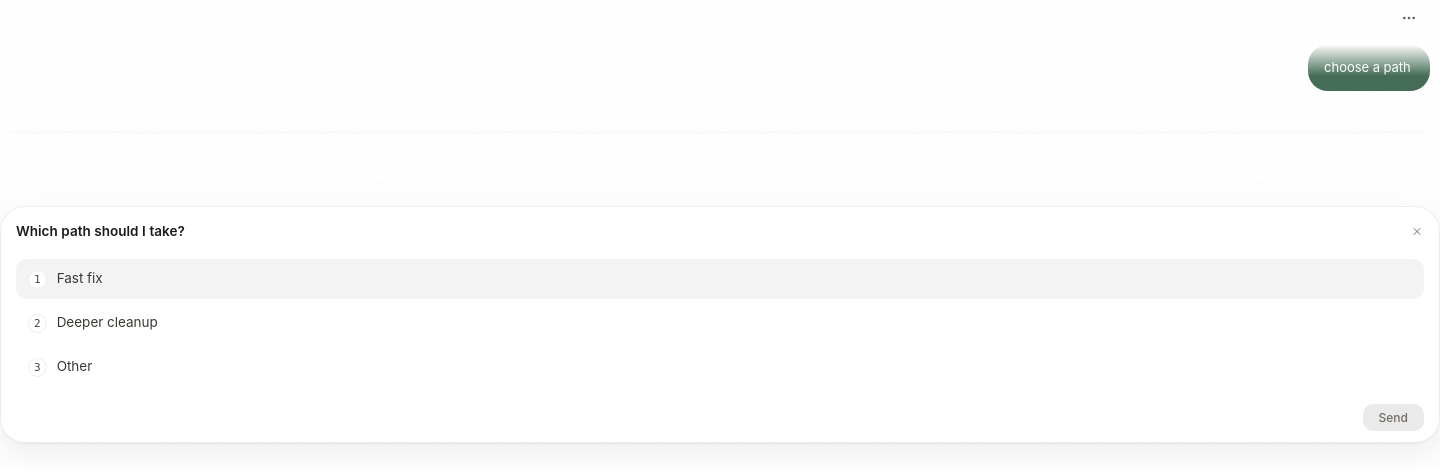
Scenario: SessionConversation — cards › renders AskUserQuestion in the question dock for claude payloads
Expected: the element named "Question from agent" is shown, x1=0 y1=206 x2=1439 y2=443
Expected: the text "Which path should I take?" is shown, x1=16 y1=223 x2=185 y2=239
Step 1. Click the option "1 Fast fix" → coordinates (80, 278), box x1=16 y1=259 x2=1424 y2=299
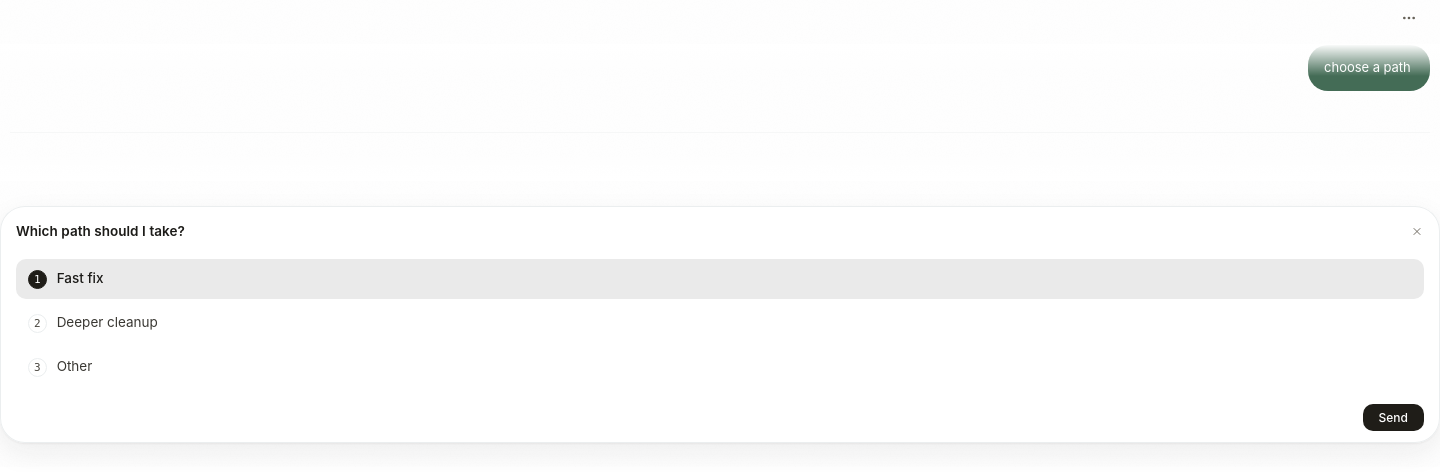
Step 2. Click the button with aria-label "Submit answer" → coordinates (1393, 417), box x1=1363 y1=404 x2=1424 y2=431
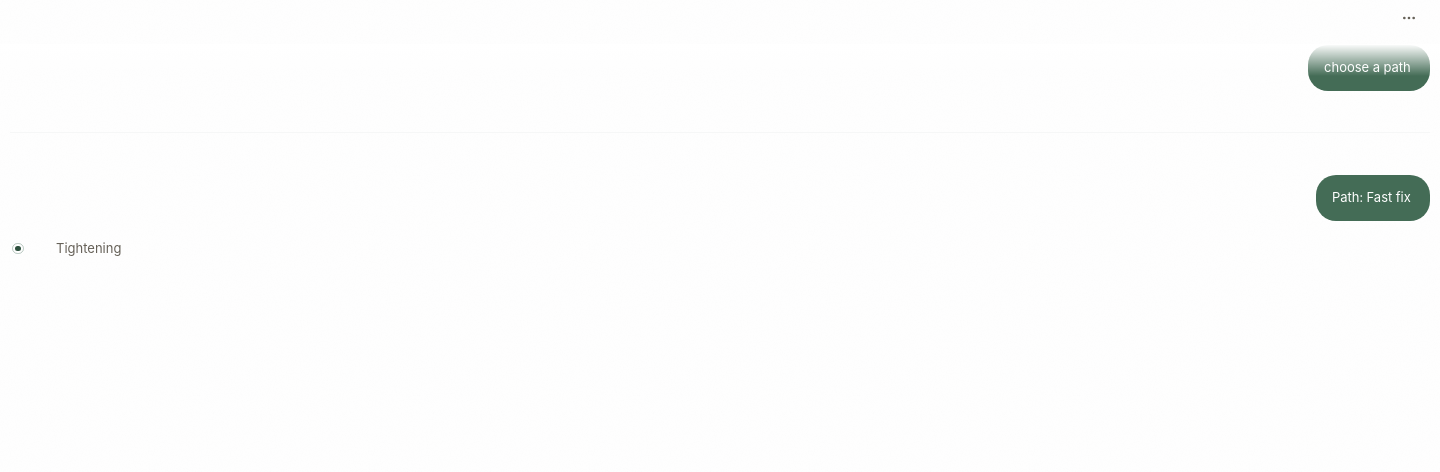
Result: the text "Path: Fast fix" is shown at x1=1332 y1=187 x2=1411 y2=209
